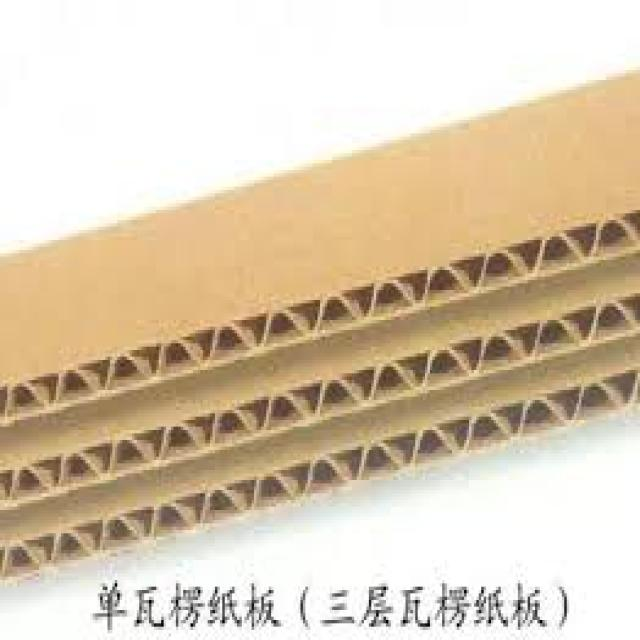cardboard: (0, 63, 638, 580)
